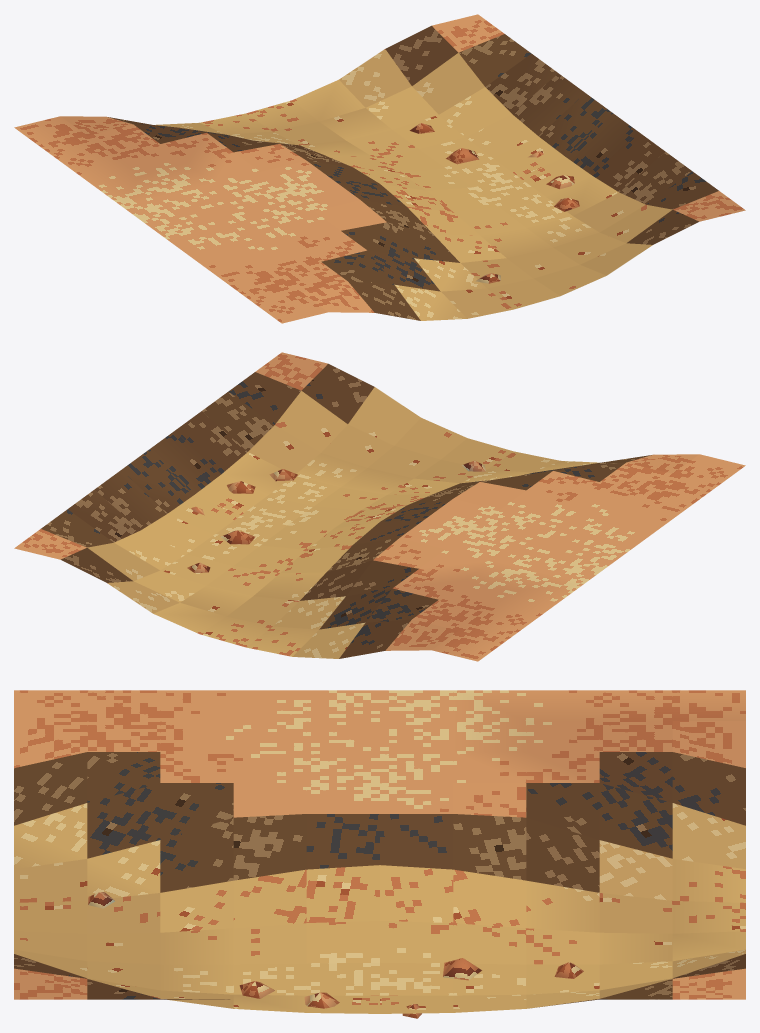
File: wland.riverbed__bend.glb
3 views of the same model, one above another, from view 1: azimuth 30°, elevation 25°; view 2: azimuth 150°, elevation 25°; view 3: azimuth 270°, elevation 25° (orthographic). The views are drawn at different scales.
Visible parts, largest first — view 1: kit_shell_ground, kit_stones; view 2: kit_shell_ground, kit_stones; view 3: kit_shell_ground, kit_stones.
Part boxes in pixels (x1=…): kit_shell_ground: x1=14, y1=14, x2=745, y2=323; kit_stones: x1=409, y1=123, x2=579, y2=283; kit_shell_ground: x1=14, y1=352, x2=745, y2=661; kit_stones: x1=187, y1=460, x2=485, y2=572; kit_shell_ground: x1=14, y1=690, x2=745, y2=1013; kit_stones: x1=88, y1=892, x2=583, y2=1018.
Size of the model in its own units: 8 by 0.7 by 8.
4 materials, 4 textured.
